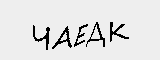А: (51, 24, 73, 52)
Д: (85, 22, 106, 47)
Е: (72, 22, 88, 48)
К: (105, 21, 131, 42)
Ч: (32, 24, 49, 53)
